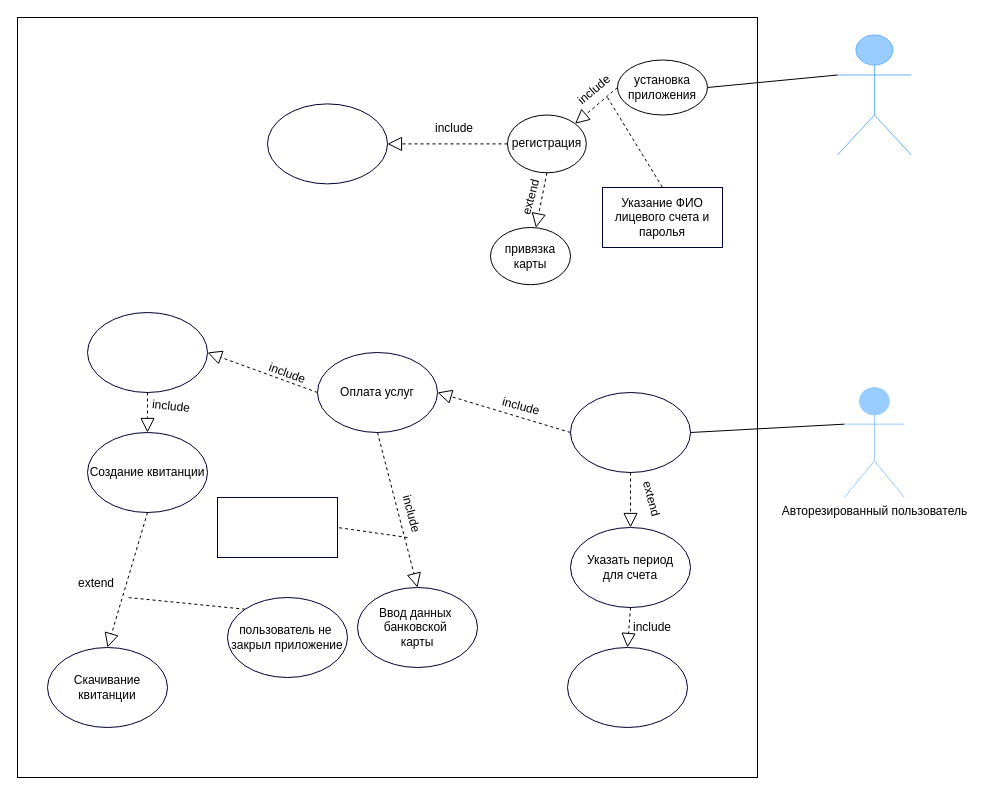
This 991x795 diagram has some shape labels left out. The centre of each missing label's shape, as x and y in pixels:
Авторизация: pixel 327 143
Ввод показаний индивидуального прибора учета: pixel 630 432
Если не прикреплена карта: pixel 277 527
Запрос по оплате лицевого счета: pixel 627 687
Неавторезированный пользователь: pixel 873 94
Подтверждение оплаты: pixel 147 352
